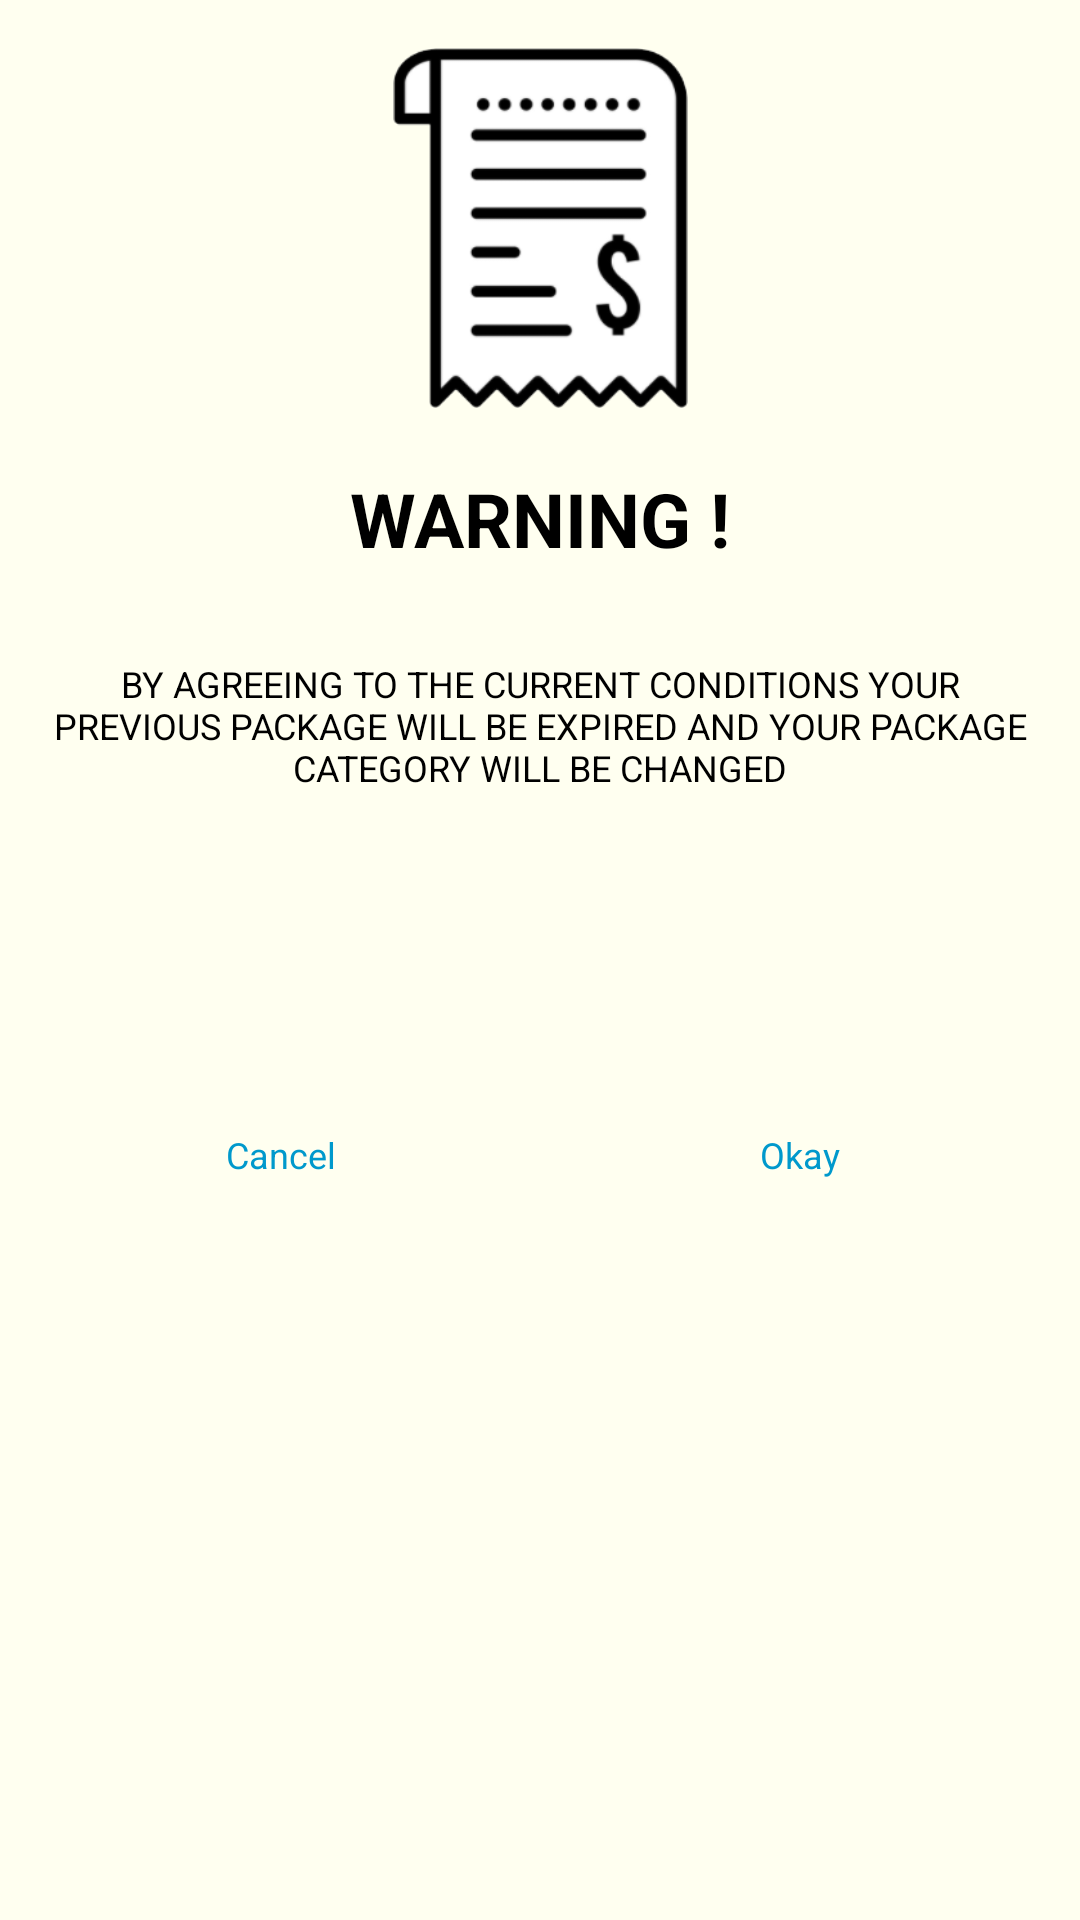

Icon bounding boxes for this 1080px×1920px phone screenshot, format (x1, y1, x2, y2):
billing: (393, 48, 688, 408)
